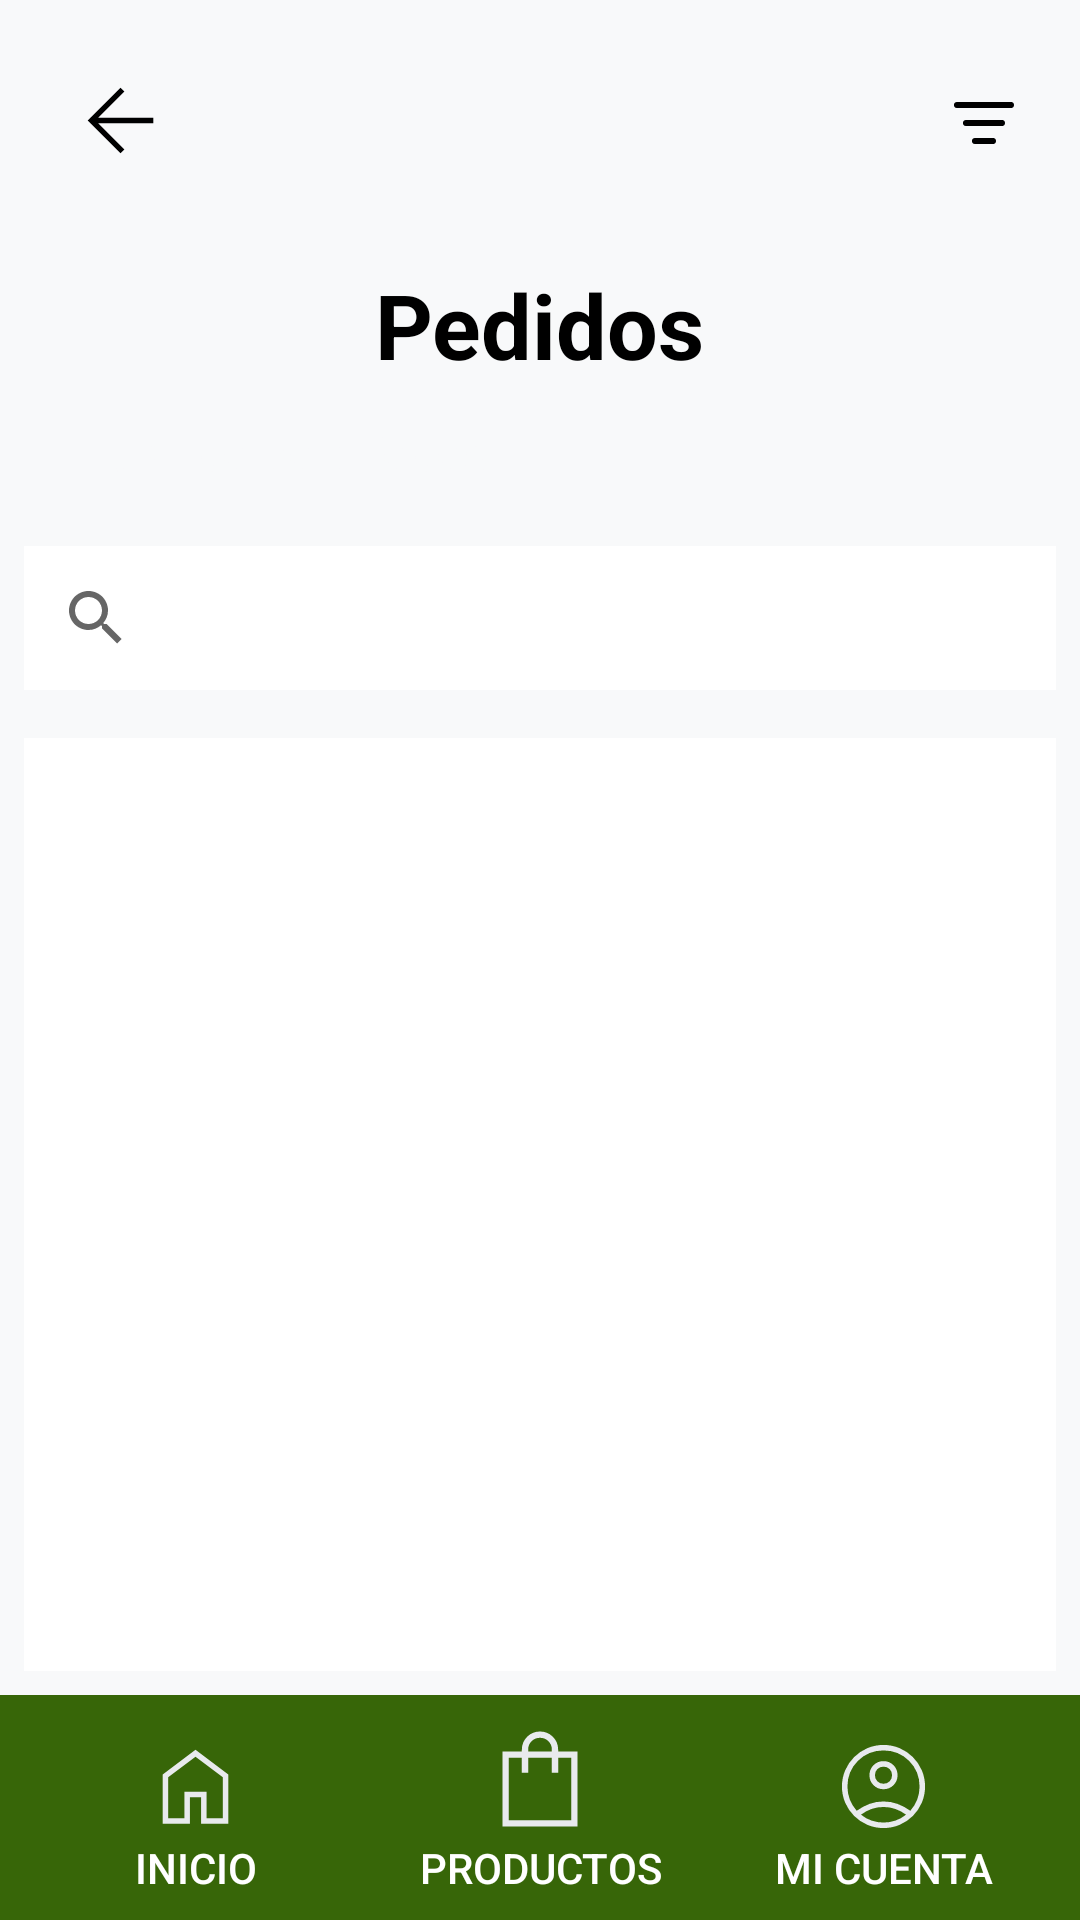

Icon bounding boxes for this 1080 × 1920 phone screenshot, format {"x1": x1, "y1": y1, "x2": x2, "y2": y2}:
Filtrar pedidos: {"x1": 954, "y1": 102, "x2": 1014, "y2": 144}
Volver: {"x1": 88, "y1": 88, "x2": 154, "y2": 153}
